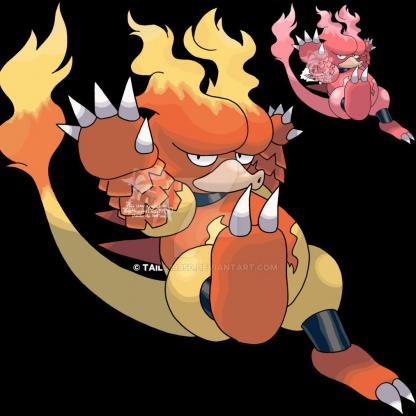Magmar: (1, 1, 413, 416)
